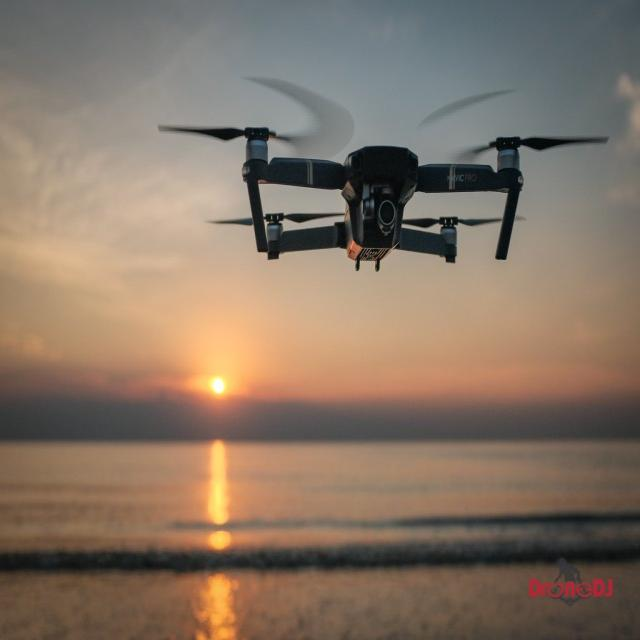drone: (116, 44, 604, 305)
